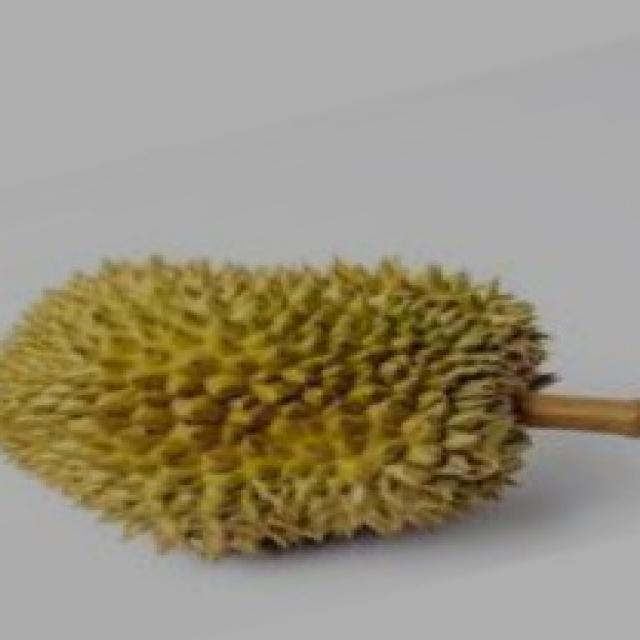fruit: (0, 218, 366, 620), (243, 222, 575, 600)
